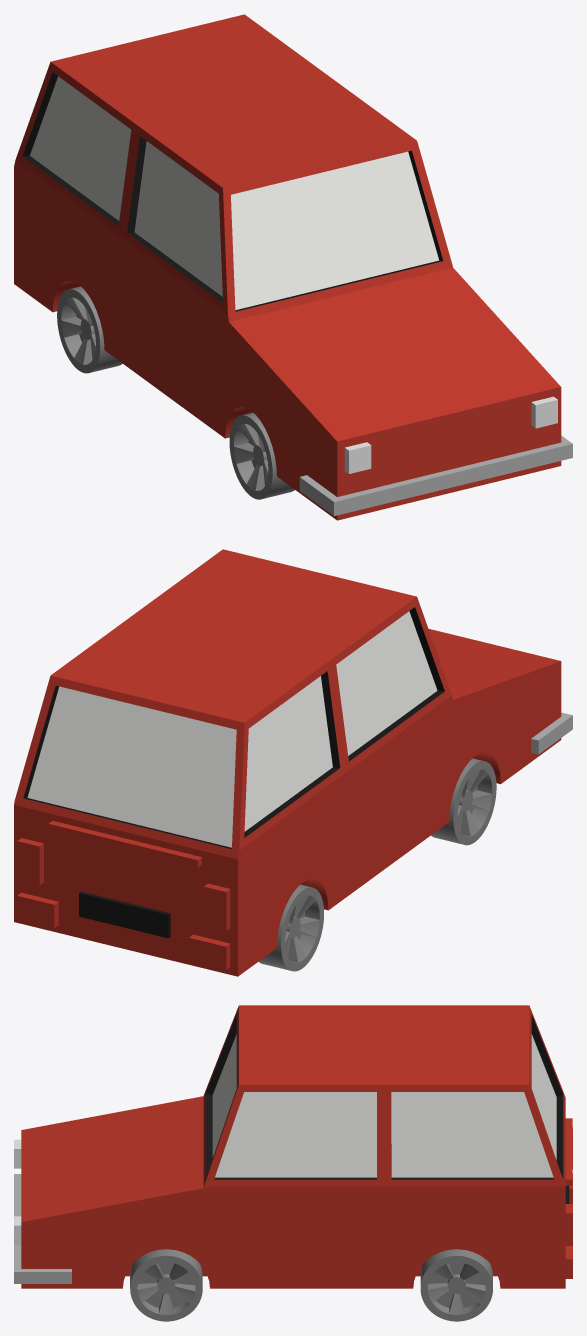
File: FirstCar v10.fbx
3 views of the same model, one above another, from view 1: azimuth 30°, elevation 25°; view 2: azimuth 150°, elevation 25°; view 3: azimuth 270°, elevation 25° (orthographic). The views are drawn at different scales.
Visible parts, largest first — view 1: Body1 (×5); view 2: Body1 (×7), Körper1 (×2); view 3: Body1 (×4).
Boxes of the visible parts, x1,y1,x2,y2 form: Body1 (×5): (14, 14, 572, 520); Body1 (×7): (14, 549, 572, 976); Körper1 (×2): (17, 892, 230, 969); Body1 (×4): (14, 1005, 572, 1321).
Size of the model in its own units: 32 by 35 by 77.
